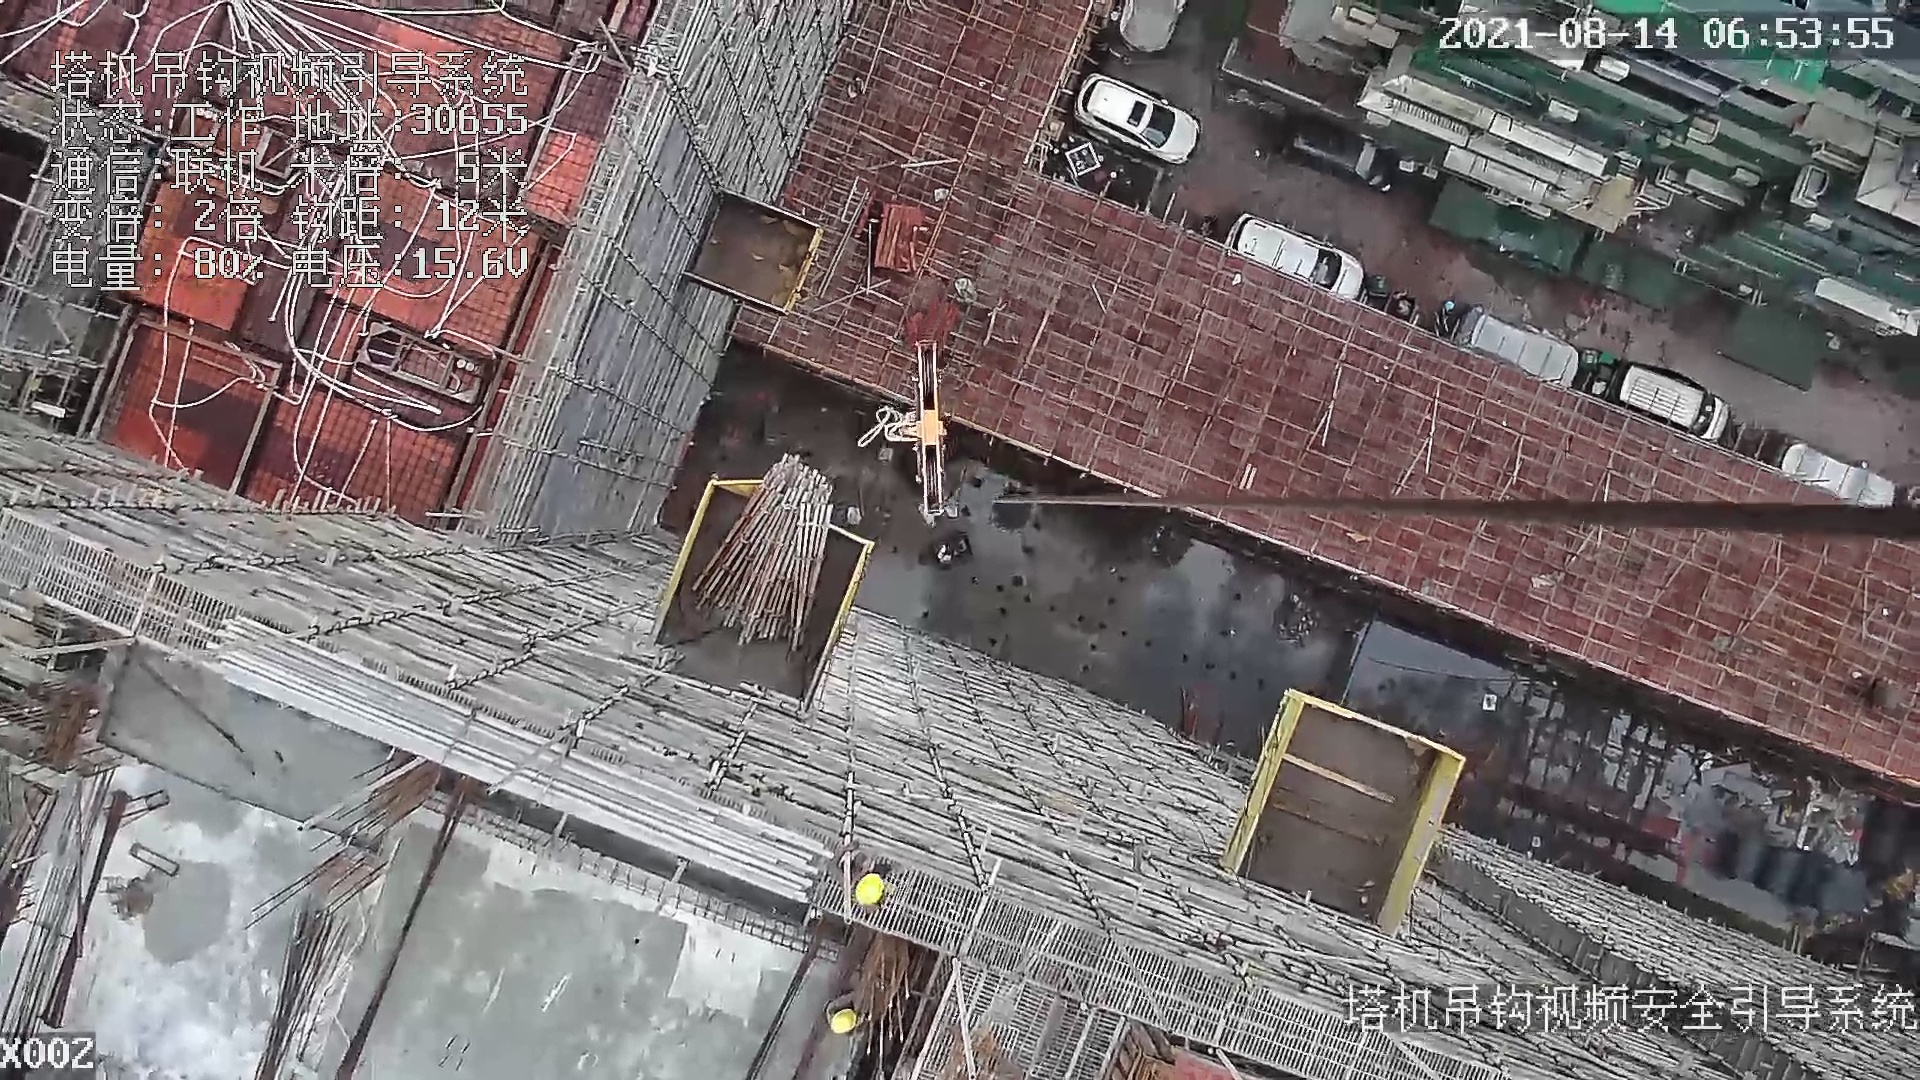helmet: (856, 873, 881, 905), (831, 1008, 856, 1034)
hook: (901, 339, 959, 523)
person: (831, 841, 905, 922), (822, 989, 882, 1049)
rebar: (200, 622, 831, 901), (245, 908, 351, 1080)
scaffold: (690, 452, 834, 648)
